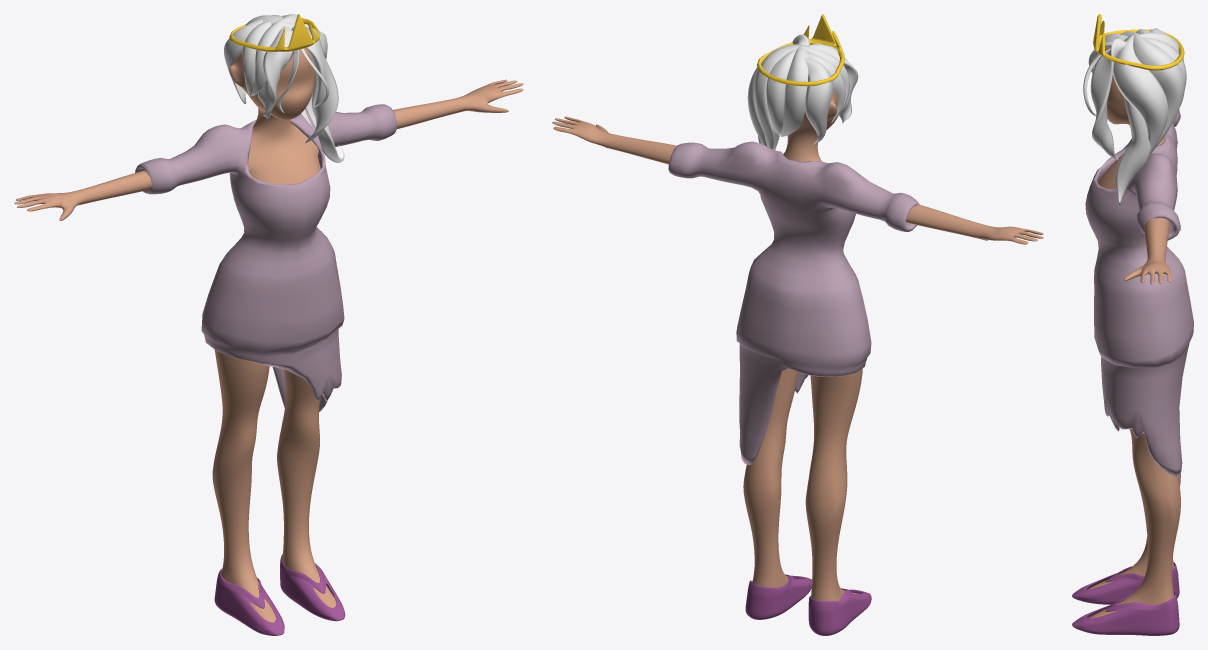
File: princess.glb
The picture shows the model from 3 angles, left to right: view 1: azimuth 30°, elevation 25°; view 2: azimuth 150°, elevation 25°; view 3: azimuth 270°, elevation 25°; orthographic projection. The views are drawn at different scales.
Parts seen in each view (by area): view 1: PinkDress, FemaleBody, FemaleFeet, NurbsPath.016, NurbsPath.017, Circle, NurbsPath.021, NurbsPath.022, NurbsPath.020; view 2: PinkDress, FemaleBody, FemaleFeet, NurbsPath.023, NurbsPath.022, Circle, NurbsPath.025, NurbsPath.024, NurbsPath.017; view 3: PinkDress, FemaleBody, FemaleFeet, NurbsPath.026, NurbsPath.025, NurbsPath.016, NurbsPath.027, Circle, NurbsPath.024, NurbsPath.018, NurbsPath.023.
Boxes of the visible parts, x1,y1,x2,y2 form: PinkDress: (135,104,397,412); FemaleBody: (14,48,523,622); FemaleFeet: (214,554,345,635); NurbsPath.016: (291,25,338,142); NurbsPath.017: (257,26,293,119); Circle: (229,14,320,51); NurbsPath.021: (242,21,271,98); NurbsPath.022: (224,18,262,103); NurbsPath.020: (251,19,284,95); PinkDress: (668,141,919,464); FemaleBody: (552,88,1043,601); FemaleFeet: (745,574,871,635); NurbsPath.023: (780,46,808,136); NurbsPath.022: (804,57,833,144); Circle: (757,14,844,86); NurbsPath.025: (754,45,803,149); NurbsPath.024: (766,49,796,134); NurbsPath.017: (807,44,858,123); PinkDress: (1085,109,1193,476); FemaleBody: (1088,47,1180,618); FemaleFeet: (1072,562,1179,635); NurbsPath.026: (1113,35,1168,154); NurbsPath.025: (1133,34,1184,149); NurbsPath.016: (1090,37,1126,160); NurbsPath.027: (1116,97,1151,205); Circle: (1093,14,1184,70); NurbsPath.024: (1143,37,1186,89); NurbsPath.018: (1083,48,1110,116); NurbsPath.023: (1138,32,1183,61).
Size of the model in its own units: 3.41 by 3.92 by 0.7159.
